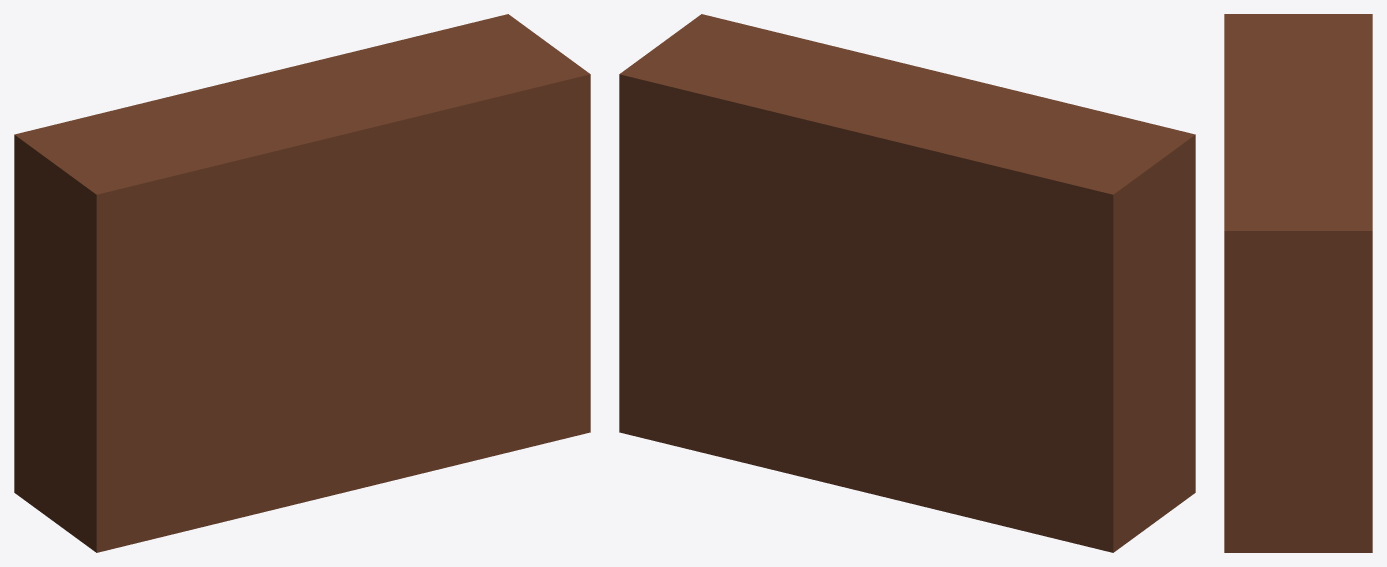
File: _wooden_wall_t.glb
3 views of the same model, side by side, from view 1: azimuth 30°, elevation 25°; view 2: azimuth 150°, elevation 25°; view 3: azimuth 270°, elevation 25° (orthographic). The views are drawn at different scales.
Parts seen in each view (by area): view 1: WoodenWallHalfTall; view 2: WoodenWallHalfTall; view 3: WoodenWallHalfTall.
Part boxes in pixels (x1=…): WoodenWallHalfTall: x1=14, y1=14, x2=590, y2=552; WoodenWallHalfTall: x1=619, y1=14, x2=1195, y2=552; WoodenWallHalfTall: x1=1224, y1=14, x2=1372, y2=552.
Bounding box in the file's own units: 1.73 × 1.2 × 0.5.
Materials: 1 (1 with a texture image).
